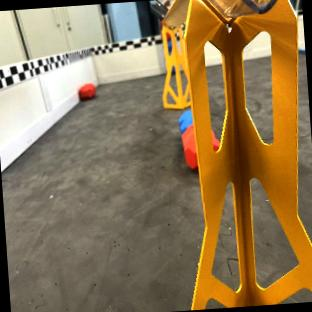V5_BLUE: (179, 108, 192, 131)
V5_RED: (181, 124, 196, 169), (78, 83, 95, 99)
